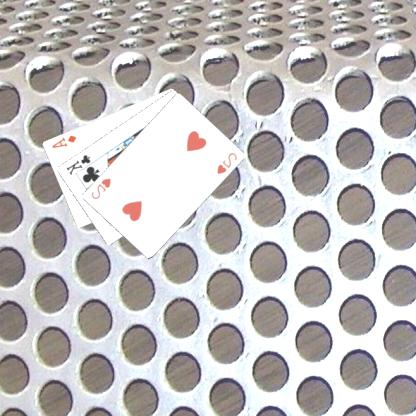2H: (90, 175, 114, 201), (216, 150, 240, 176)
AD: (50, 132, 80, 150)
KC: (65, 152, 99, 176)
